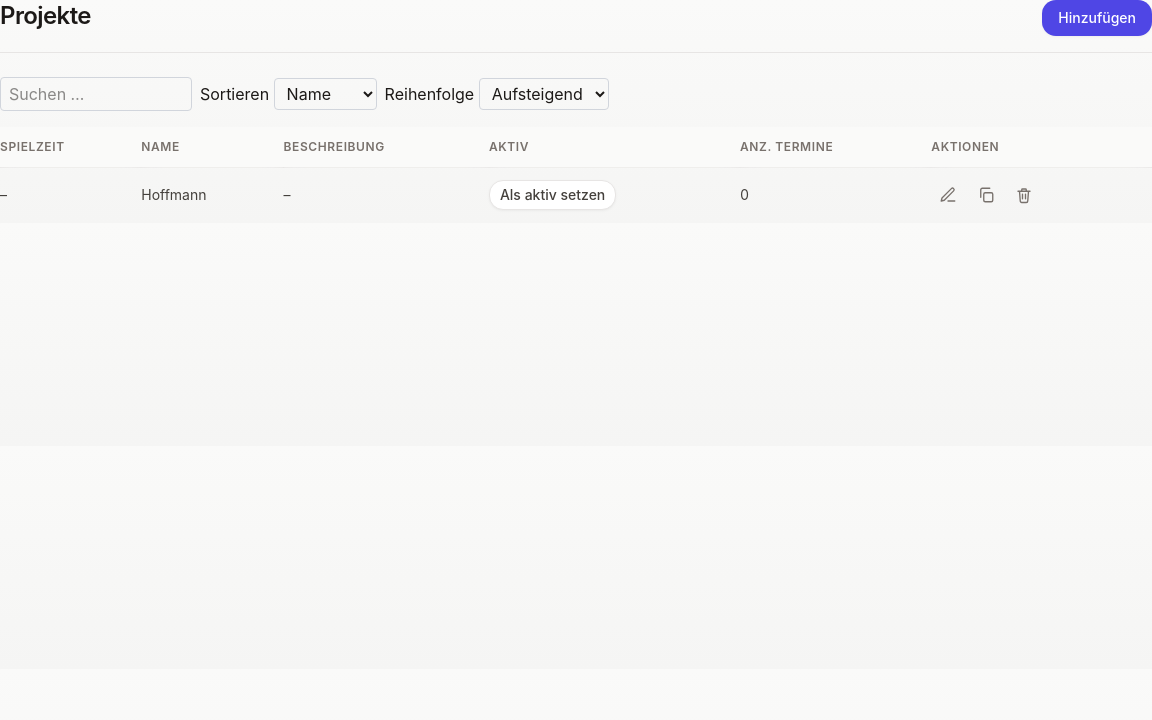
Test case: ProjectsPage › renders projects and shows summary on click
Click the button "Hoffmann": (174, 195) [141,185,206,205]
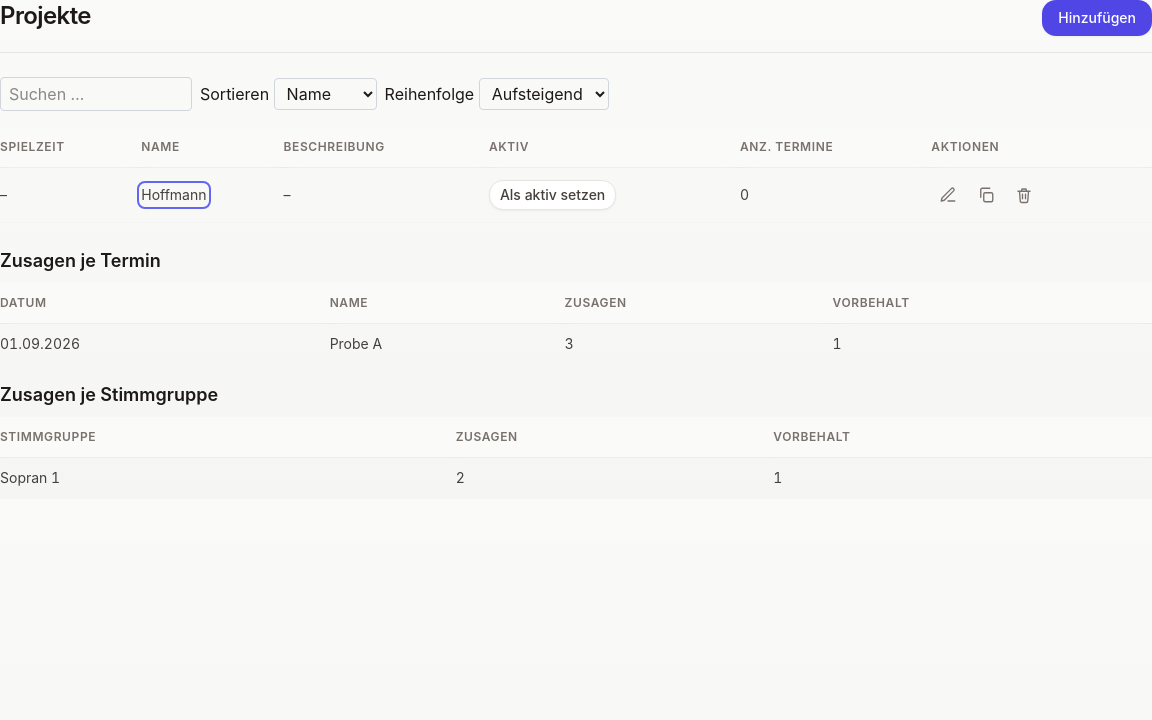
Expected: the text "Sopran 1" is shown, [0,458,456,498]
Expected: the text "2" is shown, [456,458,773,498]
